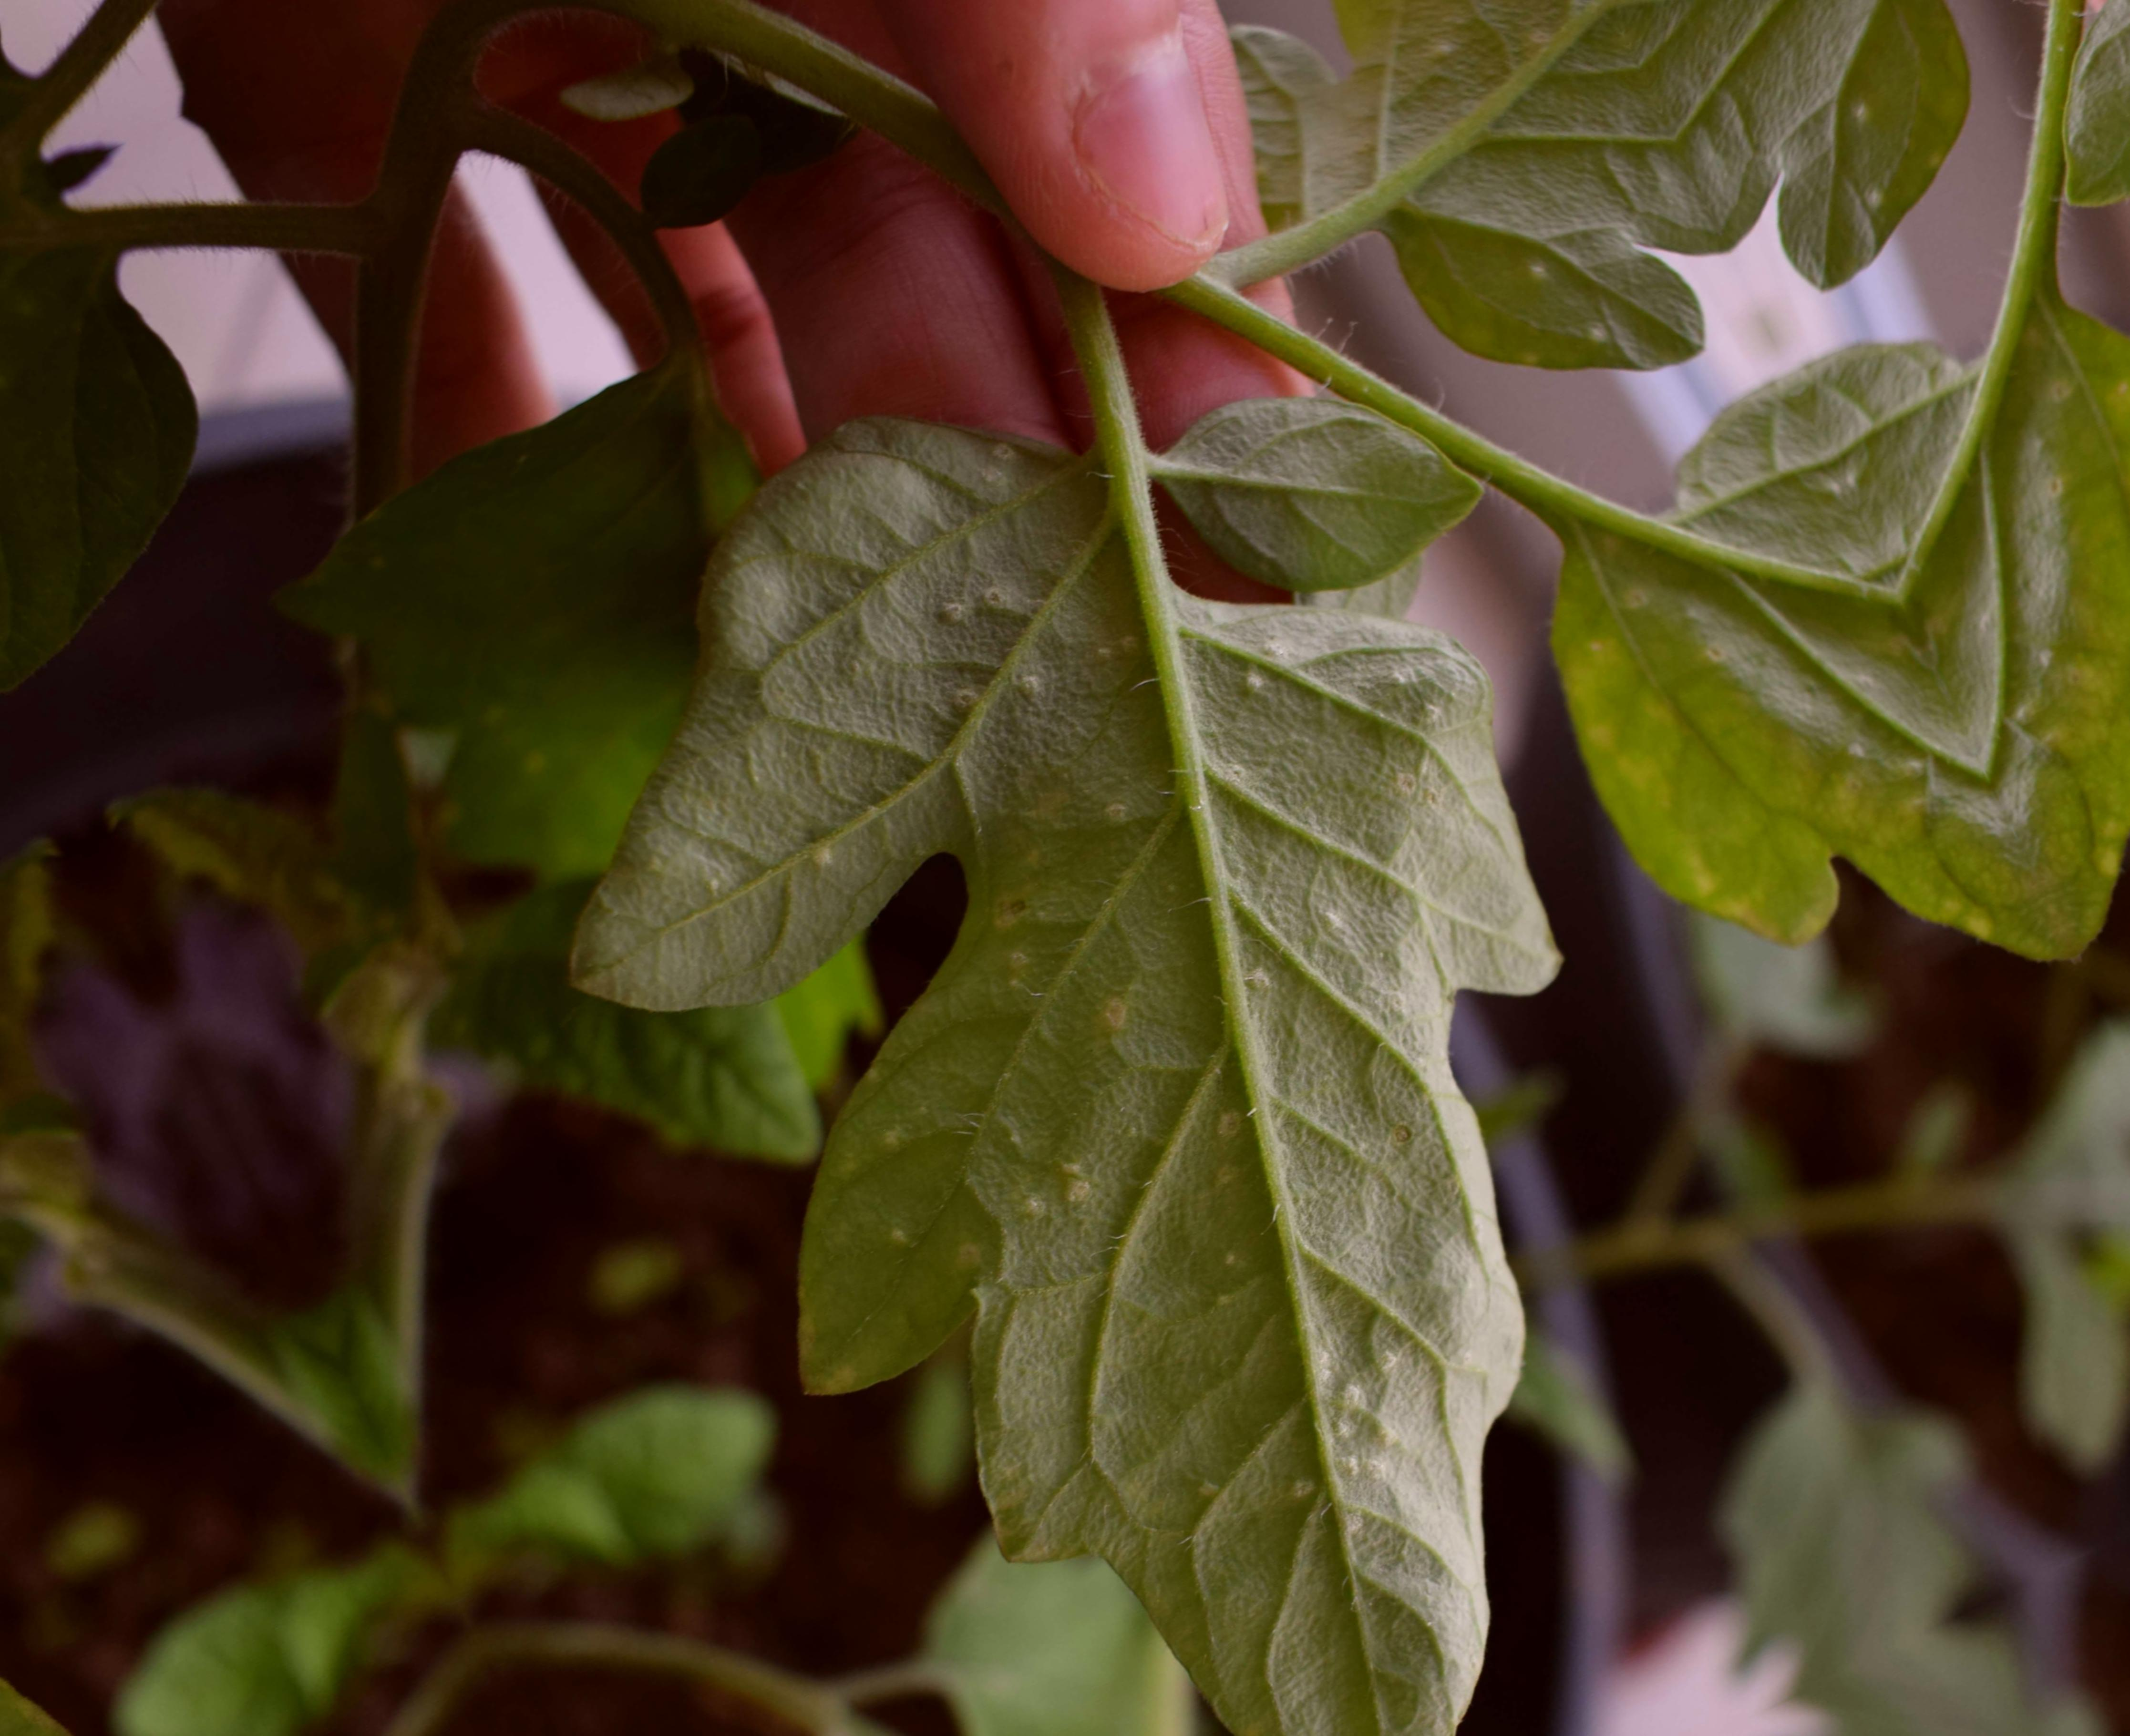Tomato mold leaf: (426, 267, 1939, 1736), (1456, 373, 2111, 1193), (1222, 0, 1774, 455), (550, 1672, 991, 1736)
